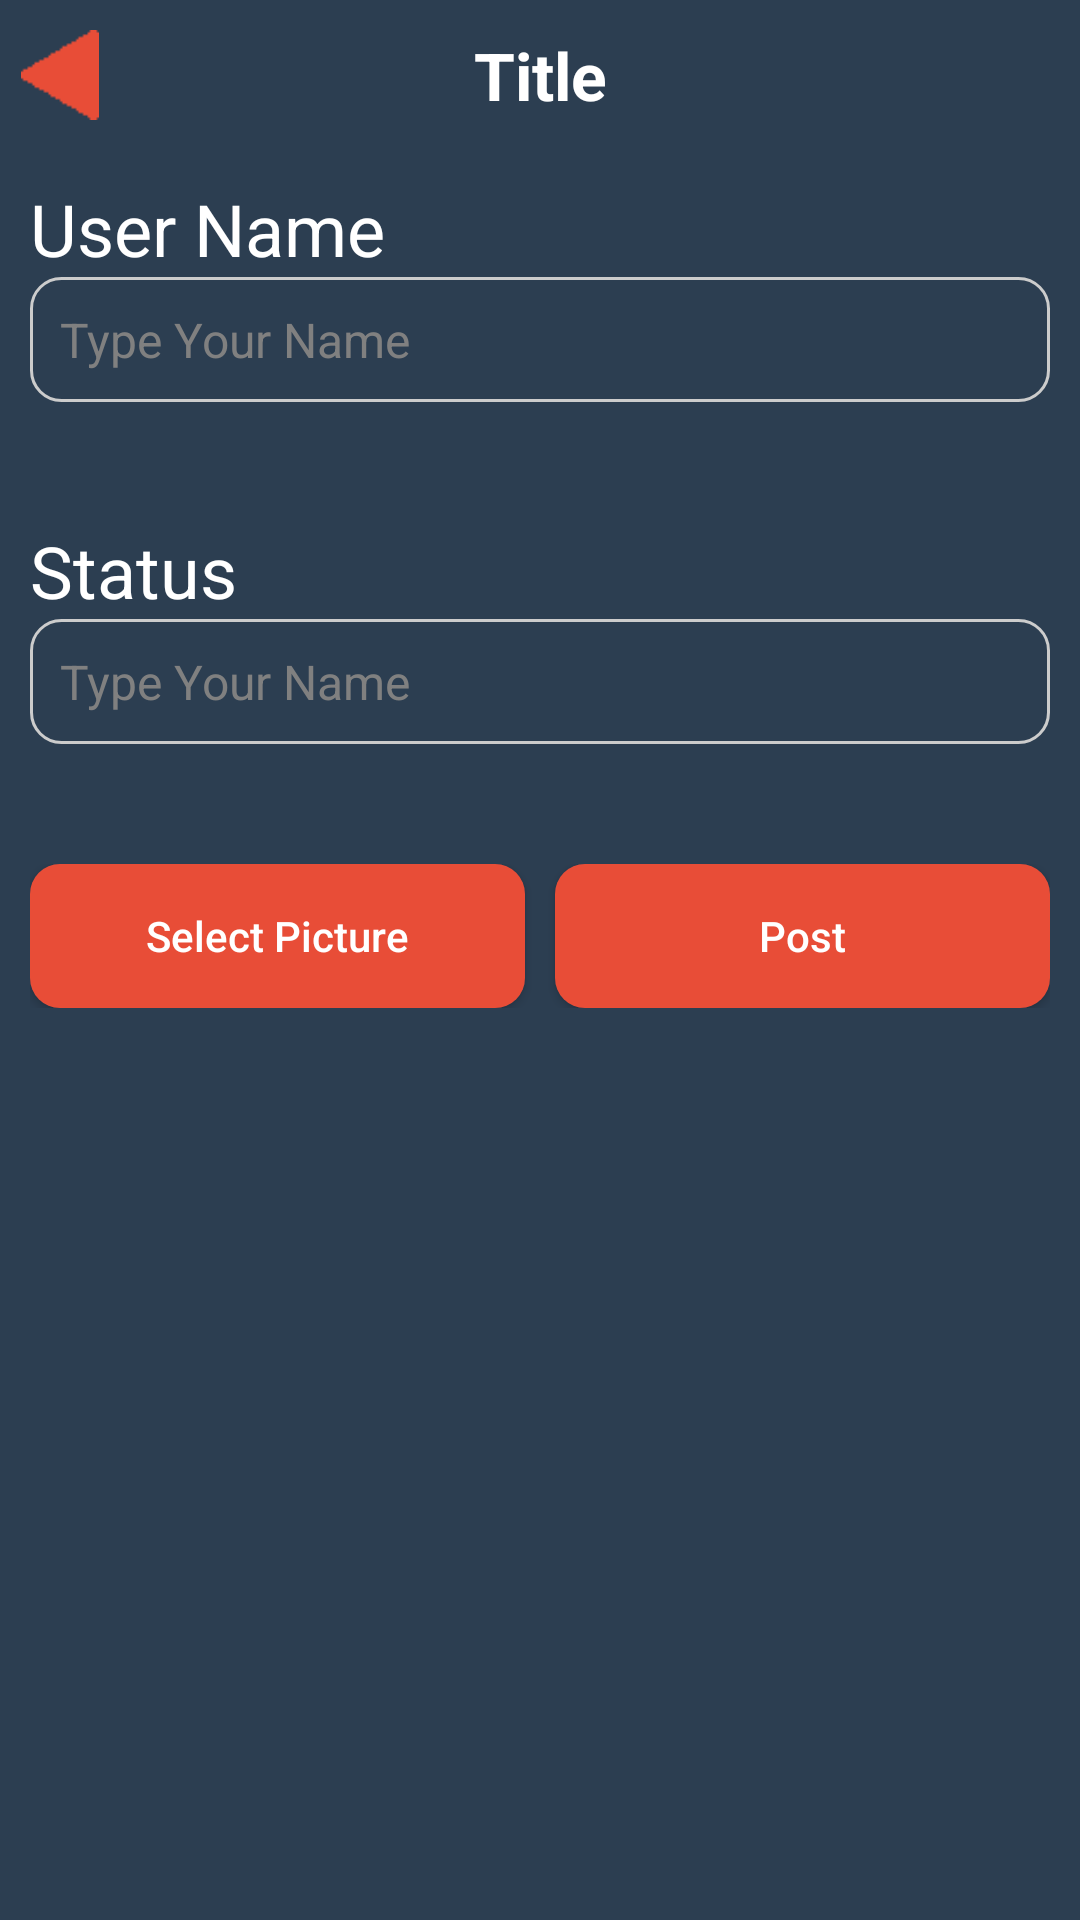

Icon click points for this 1080px×1920px phone screenshot, format (x,y):
back: (60,75)
